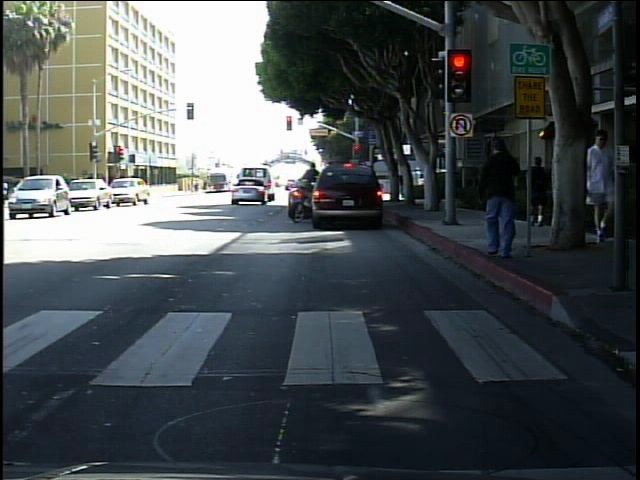person: (475, 130, 527, 268), (269, 153, 331, 230), (582, 131, 620, 246), (531, 150, 553, 229)
